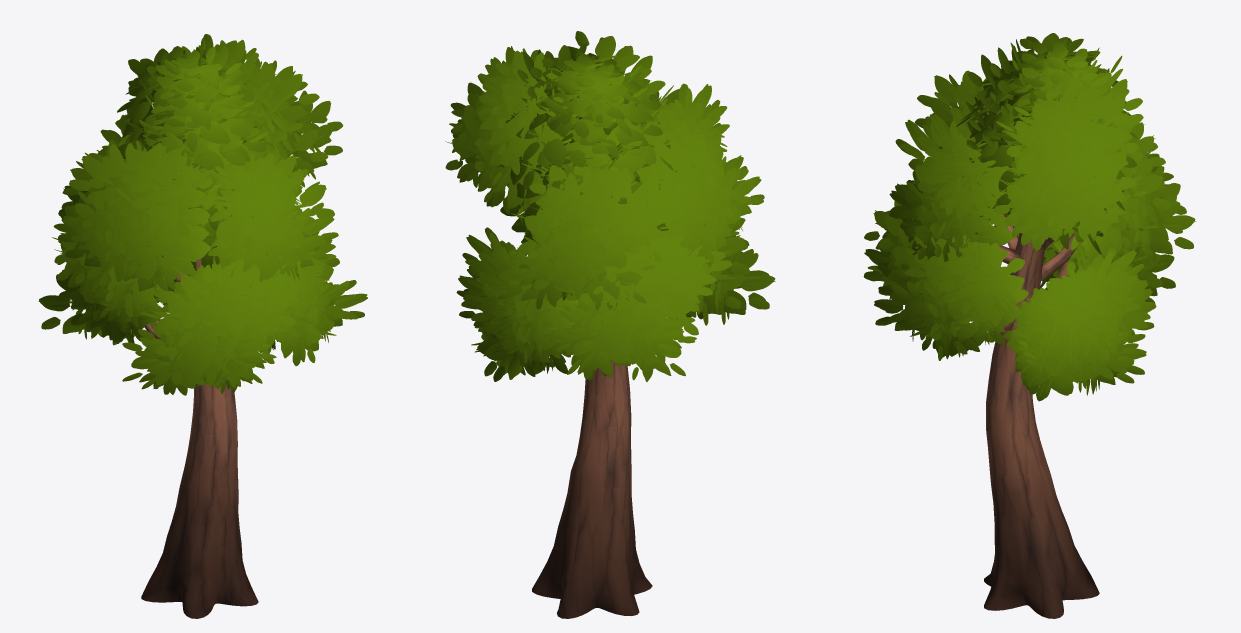
File: CommonTree_1.glb
3 renders of one model, left to right at view 1: azimuth 30°, elevation 25°; view 2: azimuth 150°, elevation 25°; view 3: azimuth 270°, elevation 25°, orthographic. The views are drawn at different scales.
Visible parts, largest first — view 1: CommonTree_1; view 2: CommonTree_1; view 3: CommonTree_1.
Boxes of the visible parts, box(x1,y1,x2,y2) form: CommonTree_1: box(38, 34, 367, 618); CommonTree_1: box(445, 31, 775, 618); CommonTree_1: box(863, 33, 1196, 618).
Bounding box in the file's own units: 4.31 × 7.26 × 4.58.
2 materials, 2 textured.
